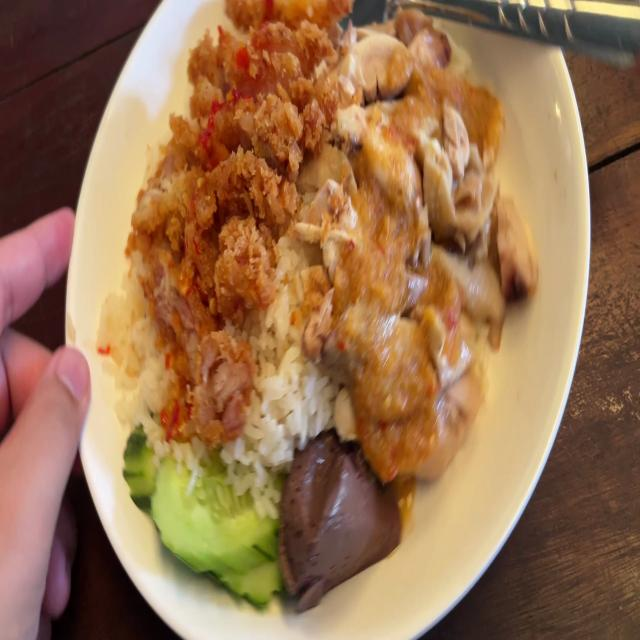boiled_chicken: (324, 20, 520, 461)
boiled_chicken_blood_jelly: (283, 426, 400, 595)
chicken_rice: (113, 0, 543, 616)
cucumber: (123, 402, 283, 604)
fried_chicken: (133, 0, 297, 424)
